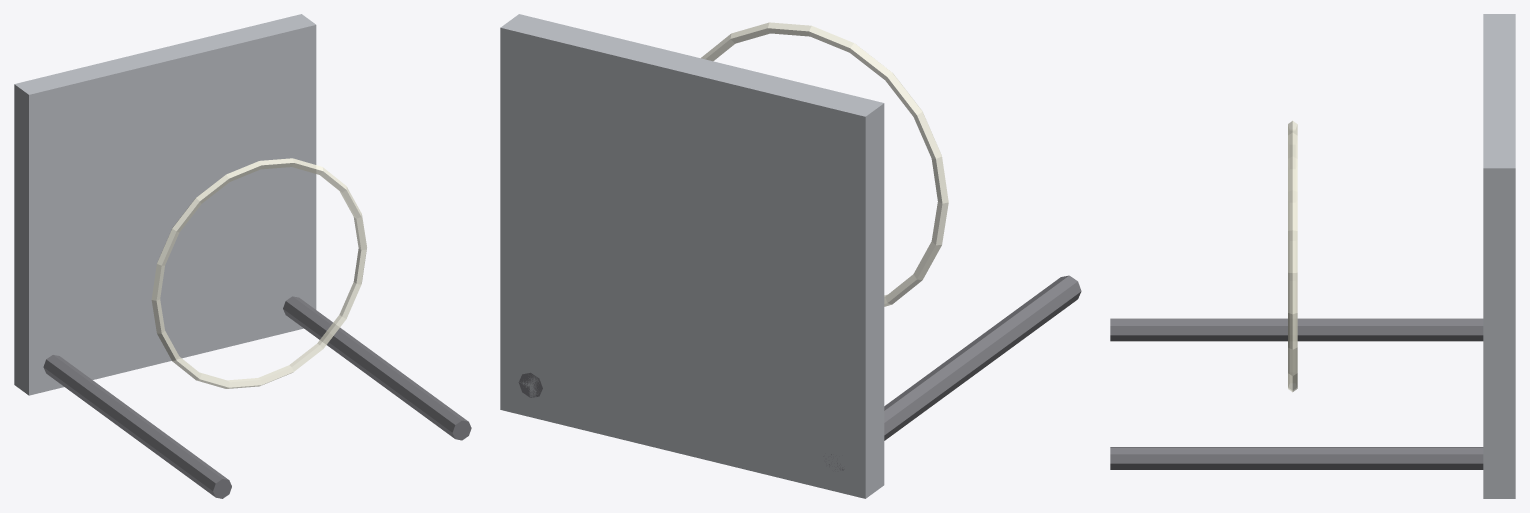
Rendered from cargo_lift_elevator.glb.
The picture shows the model from 3 angles, left to right: view 1: azimuth 30°, elevation 25°; view 2: azimuth 150°, elevation 25°; view 3: azimuth 270°, elevation 25°; orthographic projection. The views are drawn at different scales.
Parts seen in each view (by area): view 1: platform, lift_ring, post_l, post_r; view 2: platform, post_l, lift_ring; view 3: platform, post_l, post_r, lift_ring.
Part boxes in pixels (x1=…): platform: x1=14, y1=14, x2=316, y2=395; lift_ring: x1=151, y1=158, x2=366, y2=388; post_l: x1=43, y1=355, x2=231, y2=498; post_r: x1=283, y1=296, x2=471, y2=440; platform: x1=500, y1=14, x2=884, y2=498; post_l: x1=823, y1=275, x2=1081, y2=470; lift_ring: x1=701, y1=22, x2=948, y2=306; platform: x1=1483, y1=14, x2=1515, y2=498; post_l: x1=1110, y1=318, x2=1483, y2=341; post_r: x1=1110, y1=447, x2=1483, y2=469; lift_ring: x1=1288, y1=120, x2=1297, y2=392.
Size of the model in its own units: 1.8 by 1.8 by 2.
